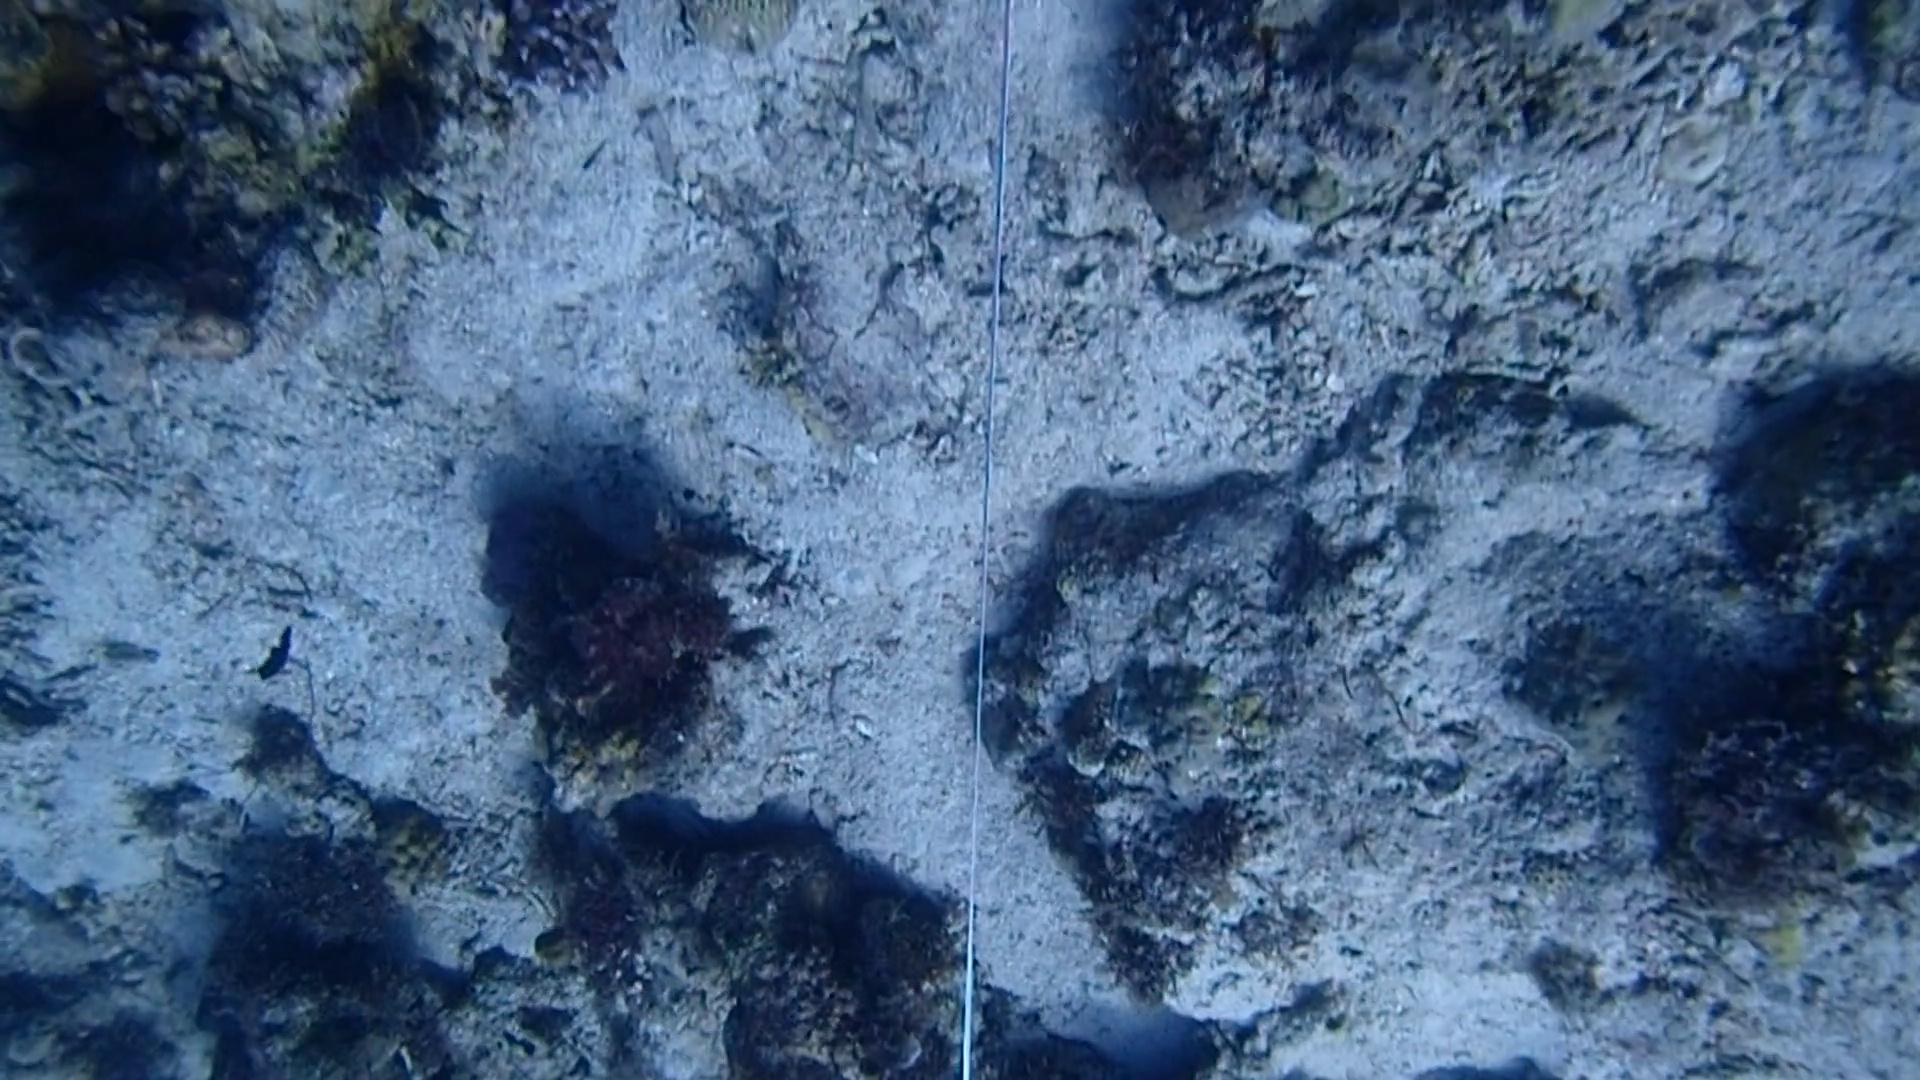Dark Fish: (244, 624, 303, 699)
